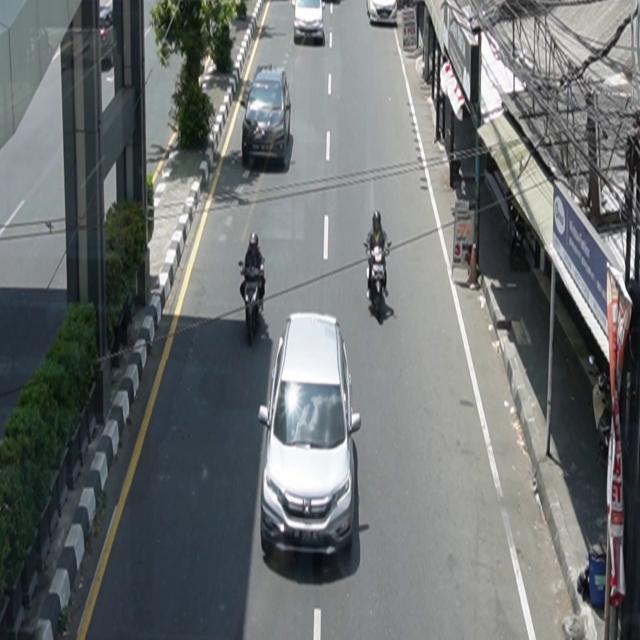car: (259, 312, 362, 560), (242, 64, 292, 167), (293, 1, 325, 45), (366, 1, 398, 26)
